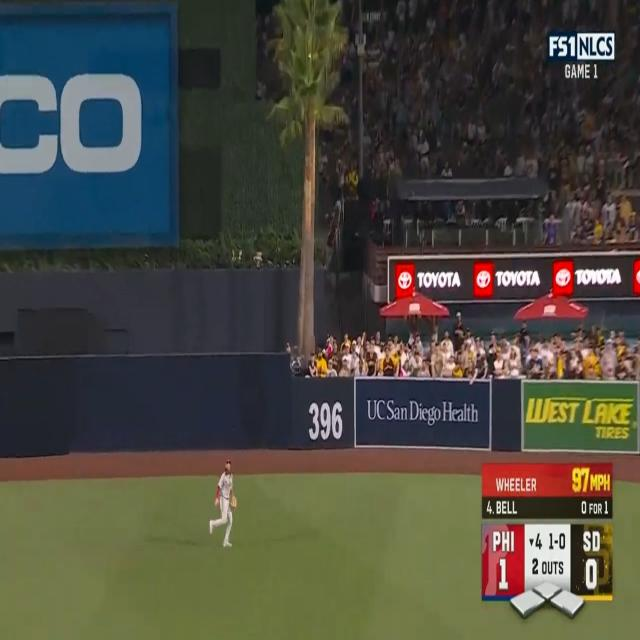baseball: (308, 53, 311, 58)
